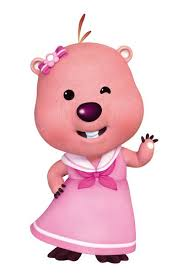Loopy: (22, 8, 161, 266)
